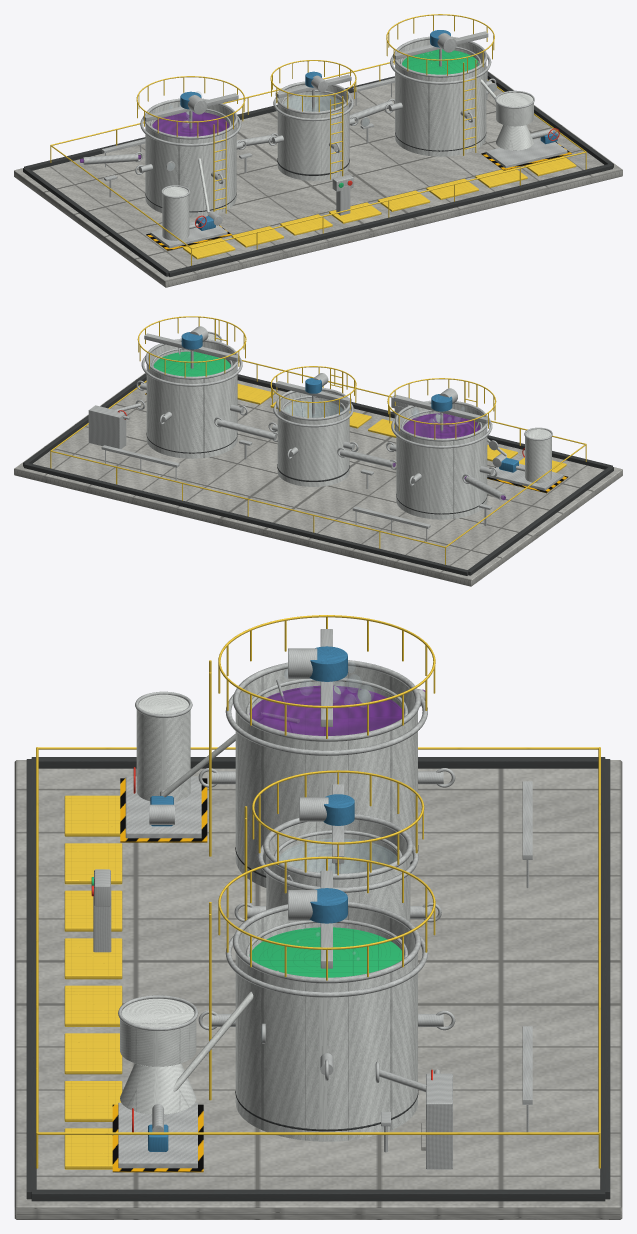
Rendered from Level11_PurificationMHP_IndustrialUV.fbx.
3 renders of one model, top to bottom at view 1: azimuth 30°, elevation 25°; view 2: azimuth 150°, elevation 25°; view 3: azimuth 270°, elevation 25°, orthographic. The views are drawn at different scales.
Parts seen in each view (by area): view 1: Concrete_Process_Pad, MHP_Precipitation_Tank_Open_Shell, Neutralization_Purification_Tank_Open_Shell, Polishing_Tank_Open_Shell, Dark_Skid_Perimeter_Front, Reagent_Day_Tank, Neutralization_Purification_Tank_Visible_Process_Liquid, MHP_Precipitation_Tank_Visible_Process_Liquid, Dark_Skid_Perimeter_Left, MGO_Dosing_Base_Skid, MGO_Hopper_Upper_Bin, Dark_Skid_Perimeter_Back (+29 smaller); view 2: Concrete_Process_Pad, Neutralization_Purification_Tank_Open_Shell, MHP_Precipitation_Tank_Open_Shell, Polishing_Tank_Open_Shell, Dark_Skid_Perimeter_Back, MHP_Sample_Station_Frame, MHP_Precipitation_Tank_Visible_Process_Liquid, Neutralization_Purification_Tank_Visible_Process_Liquid, Reagent_Day_Tank, Dark_Skid_Perimeter_Left, Dark_Skid_Perimeter_Front, Dark_Skid_Perimeter_Right (+22 smaller); view 3: Concrete_Process_Pad, MHP_Precipitation_Tank_Open_Shell, Neutralization_Purification_Tank_Open_Shell, Polishing_Tank_Open_Shell, Dark_Skid_Perimeter_Right, MHP_Precipitation_Tank_Visible_Process_Liquid, Reagent_Day_Tank, Neutralization_Purification_Tank_Visible_Process_Liquid, MGO_Hopper_Upper_Bin, Dark_Skid_Perimeter_Back, Dark_Skid_Perimeter_Front, MGO_Dosing_Base_Skid (+40 smaller).
Boxes of the visible parts, x1,y1,x2,y2 form: Concrete_Process_Pad: (14,71,622,287); MHP_Precipitation_Tank_Open_Shell: (395,39,486,156); Neutralization_Purification_Tank_Open_Shell: (145,101,236,217); Polishing_Tank_Open_Shell: (277,84,349,180); Dark_Skid_Perimeter_Front: (168,164,612,276); Reagent_Day_Tank: (162,186,189,240); Neutralization_Purification_Tank_Visible_Process_Liquid: (152,111,229,136); MHP_Precipitation_Tank_Visible_Process_Liquid: (402,49,479,74); Dark_Skid_Perimeter_Left: (23,167,168,276); MGO_Dosing_Base_Skid: (485,138,567,168); MGO_Hopper_Upper_Bin: (496,92,533,126); Dark_Skid_Perimeter_Back: (24,76,394,170); Concrete_Process_Pad: (14,373,622,586); Neutralization_Purification_Tank_Open_Shell: (396,403,487,519); MHP_Precipitation_Tank_Open_Shell: (146,341,237,458); Polishing_Tank_Open_Shell: (277,390,349,486); Dark_Skid_Perimeter_Back: (24,463,468,575); MHP_Sample_Station_Frame: (88,405,126,448); MHP_Precipitation_Tank_Visible_Process_Liquid: (153,351,230,376); Neutralization_Purification_Tank_Visible_Process_Liquid: (403,413,480,438); Reagent_Day_Tank: (525,429,551,483); Dark_Skid_Perimeter_Left: (467,466,613,575); Dark_Skid_Perimeter_Front: (237,374,612,469); Dark_Skid_Perimeter_Right: (23,373,146,466); Concrete_Process_Pad: (14,760,622,1219); MHP_Precipitation_Tank_Open_Shell: (235,907,417,1141); Neutralization_Purification_Tank_Open_Shell: (235,666,417,887); Polishing_Tank_Open_Shell: (266,819,410,921); Dark_Skid_Perimeter_Right: (31,1189,605,1201); MHP_Precipitation_Tank_Visible_Process_Liquid: (249,927,401,977); Reagent_Day_Tank: (136,694,190,801); Neutralization_Purification_Tank_Visible_Process_Liquid: (249,685,404,735); MGO_Hopper_Upper_Bin: (120,998,196,1066); Dark_Skid_Perimeter_Back: (600,759,610,1199); Dark_Skid_Perimeter_Front: (26,759,36,1199); MGO_Dosing_Base_Skid: (118,1102,197,1168).
Size of the model in its own units: 1880 by 446 by 1080.
15 materials, 15 textured.
